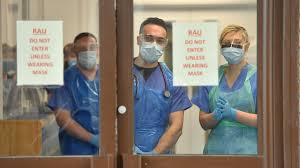mask: (140, 42, 164, 62), (221, 45, 245, 65), (78, 51, 97, 69)
